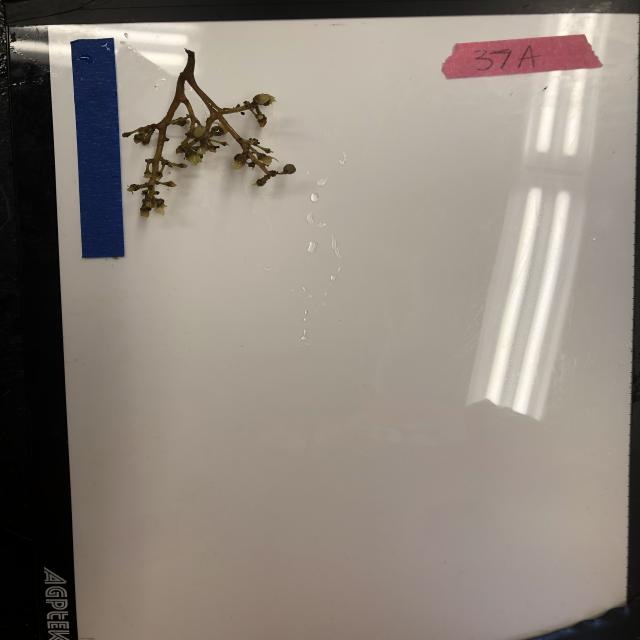index: (441, 30, 605, 80)
measure_label: (69, 35, 126, 262)
rachis_cluster: (117, 46, 305, 225)
